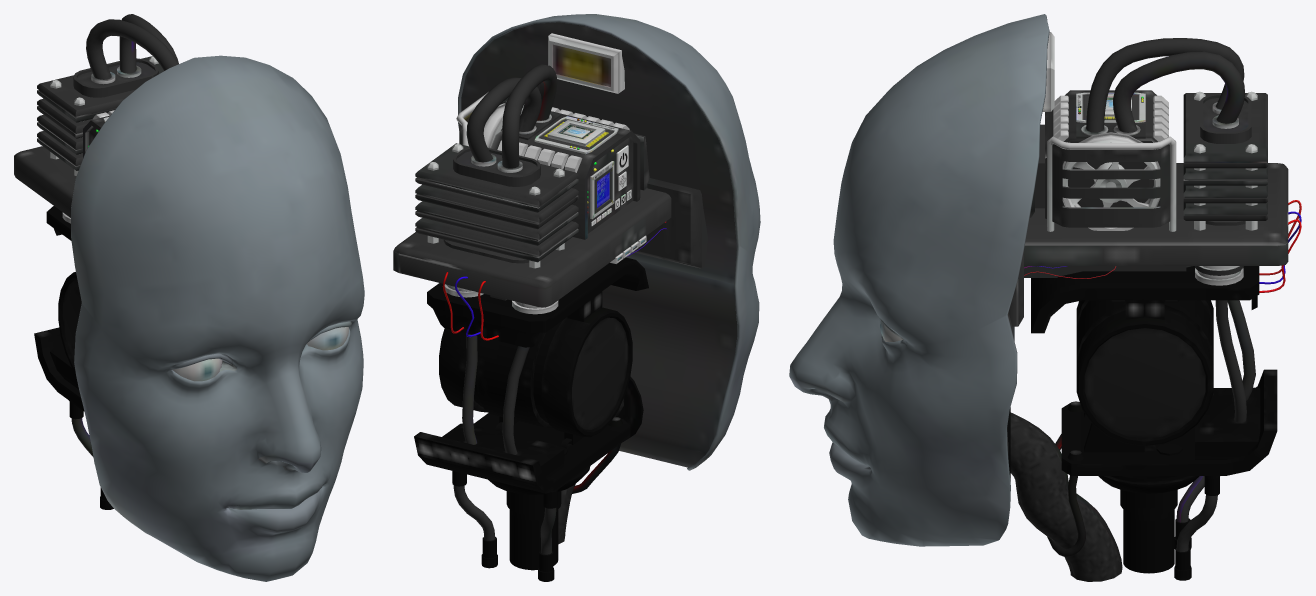
The model's file is robot100.glb.
The picture shows the model from 3 angles, left to right: view 1: azimuth 30°, elevation 25°; view 2: azimuth 150°, elevation 25°; view 3: azimuth 270°, elevation 25°; orthographic projection. The views are drawn at different scales.
Visible parts, largest first — view 1: mask_mask_0, system_system_0, system_2_system 2_0, tube_tube_0; view 2: mask_mask_0, system_system_0, system_2_system 2_0, tube_tube_0, process_process_0; view 3: mask_mask_0, system_2_system 2_0, system_system_0, tube_tube_0, process_process_0.
Part boxes in pixels (left/top/right/bottom): mask_mask_0: left=71, top=55, right=364, bottom=581; system_system_0: left=14, top=56, right=163, bottom=223; system_2_system 2_0: left=34, top=206, right=113, bottom=509; tube_tube_0: left=71, top=14, right=178, bottom=457; mask_mask_0: left=458, top=14, right=760, bottom=470; system_system_0: left=393, top=33, right=707, bottom=314; system_2_system 2_0: left=414, top=257, right=648, bottom=581; tube_tube_0: left=442, top=64, right=666, bottom=554; process_process_0: left=534, top=116, right=631, bottom=226; mask_mask_0: left=789, top=14, right=1049, bottom=546; system_2_system 2_0: left=1031, top=266, right=1277, bottom=580; system_system_0: left=1008, top=32, right=1288, bottom=326; tube_tube_0: left=1007, top=38, right=1301, bottom=581; process_process_0: left=1076, top=92, right=1145, bottom=122.
Bounding box in the file's own units: 0.4183 × 0.7243 × 0.6302.
Materials: 5 (5 with a texture image).
